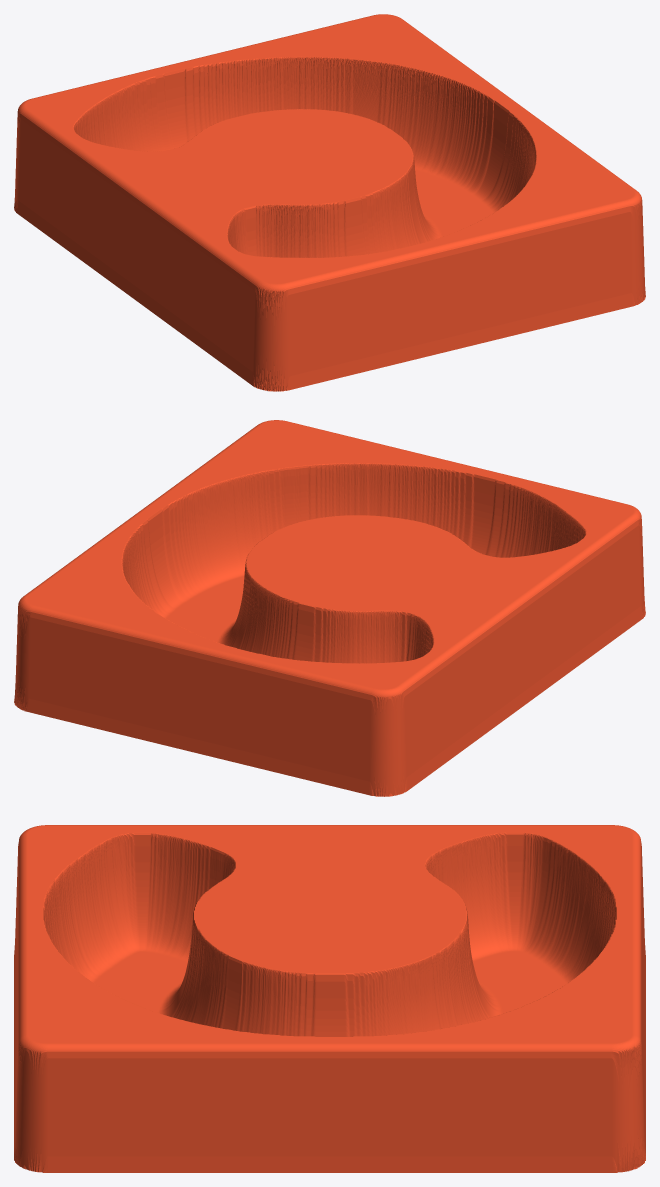
File: mold.glb
The picture shows the model from 3 angles, top to bottom: view 1: azimuth 30°, elevation 25°; view 2: azimuth 150°, elevation 25°; view 3: azimuth 270°, elevation 25°; orthographic projection. The views are drawn at different scales.
Visible parts, largest first — view 1: geometry_0; view 2: geometry_0; view 3: geometry_0.
Part boxes in pixels (box(x1,y1,x2,y2)): geometry_0: box(14, 14, 645, 391); geometry_0: box(14, 420, 645, 796); geometry_0: box(14, 825, 645, 1172).
Size of the model in its own units: 0.1449 by 0.0365 by 0.1689.
